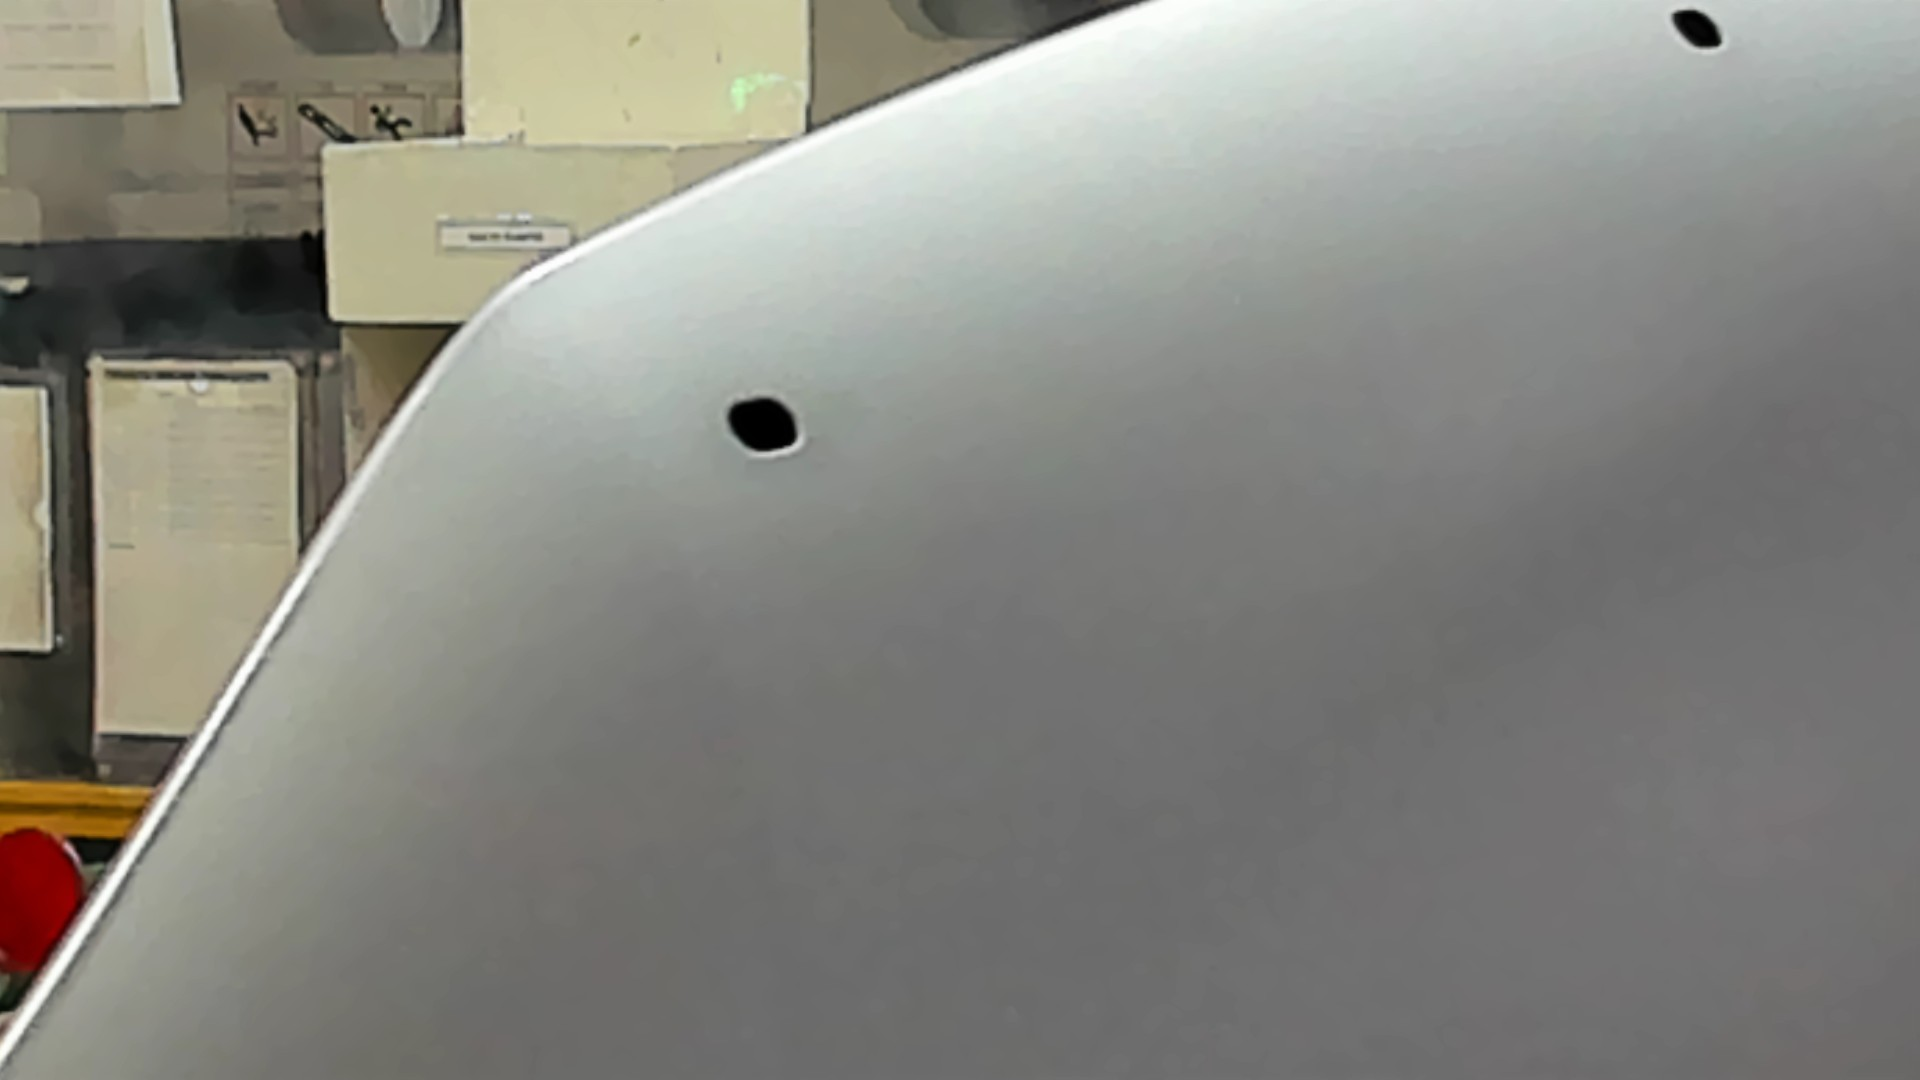chico: (716, 388, 808, 468), (1651, 1, 1746, 69)
